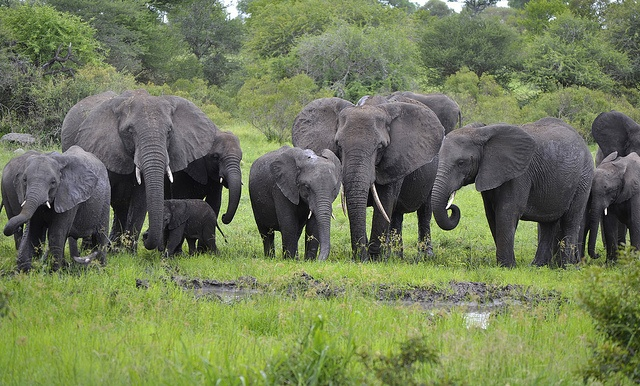elephant: (291, 93, 444, 265), (59, 90, 217, 256), (429, 116, 593, 269), (1, 146, 111, 275), (247, 145, 343, 264), (164, 131, 242, 224), (585, 150, 639, 265), (142, 198, 226, 259)
